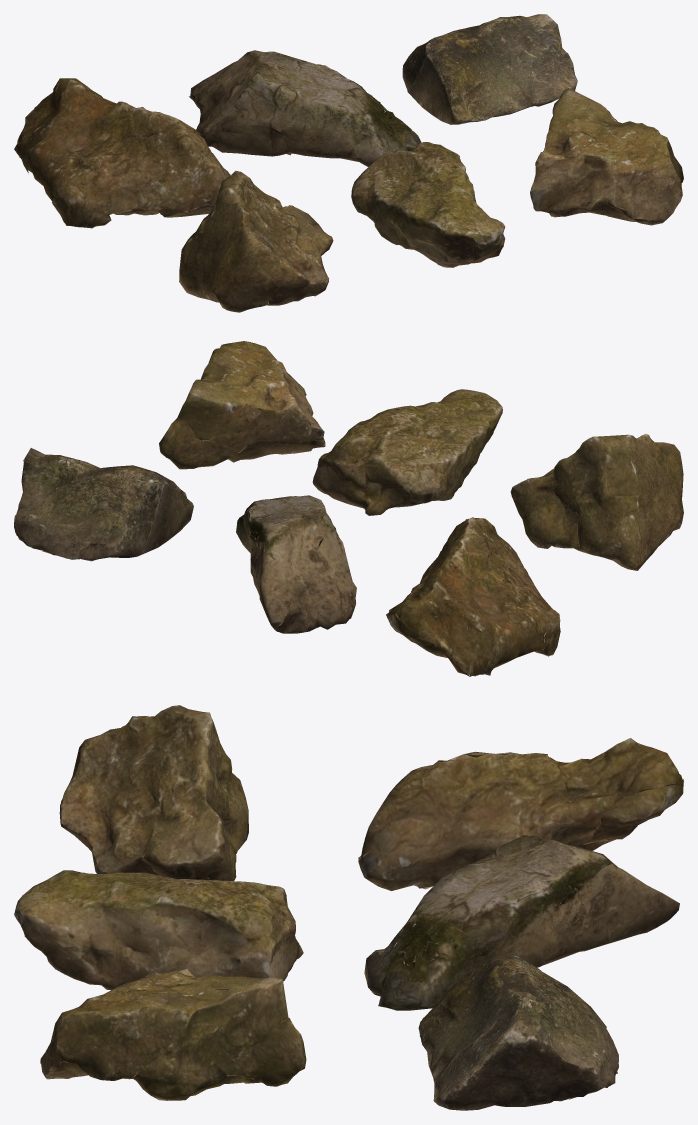
The model's file is rock_moss_set_01.glb.
3 renders of one model, top to bottom at view 1: azimuth 30°, elevation 25°; view 2: azimuth 150°, elevation 25°; view 3: azimuth 270°, elevation 25°, orthographic. The views are drawn at different scales.
Visible parts, largest first — view 1: rock_moss_set_01_rock01, rock_moss_set_01_rock02, rock_moss_set_01_rock06, rock_moss_set_01_rock04, rock_moss_set_01_rock03, rock_moss_set_01_rock05; view 2: rock_moss_set_01_rock04, rock_moss_set_01_rock01, rock_moss_set_01_rock05, rock_moss_set_01_rock03, rock_moss_set_01_rock06, rock_moss_set_01_rock02; view 3: rock_moss_set_01_rock01, rock_moss_set_01_rock02, rock_moss_set_01_rock05, rock_moss_set_01_rock04, rock_moss_set_01_rock06, rock_moss_set_01_rock03.
Boxes of the visible parts, left/top/right/bottom form: rock_moss_set_01_rock01: left=14, top=78, right=230, bottom=228; rock_moss_set_01_rock02: left=189, top=50, right=421, bottom=166; rock_moss_set_01_rock06: left=530, top=88, right=683, bottom=225; rock_moss_set_01_rock04: left=179, top=170, right=333, bottom=312; rock_moss_set_01_rock03: left=402, top=14, right=577, bottom=124; rock_moss_set_01_rock05: left=351, top=142, right=505, bottom=267; rock_moss_set_01_rock04: left=510, top=433, right=683, bottom=570; rock_moss_set_01_rock01: left=386, top=517, right=560, bottom=676; rock_moss_set_01_rock05: left=312, top=389, right=502, bottom=515; rock_moss_set_01_rock03: left=14, top=448, right=193, bottom=561; rock_moss_set_01_rock06: left=159, top=341, right=325, bottom=469; rock_moss_set_01_rock02: left=236, top=495, right=356, bottom=633; rock_moss_set_01_rock01: left=358, top=738, right=683, bottom=890; rock_moss_set_01_rock02: left=364, top=835, right=679, bottom=1010; rock_moss_set_01_rock05: left=14, top=870, right=303, bottom=990; rock_moss_set_01_rock04: left=59, top=705, right=248, bottom=880; rock_moss_set_01_rock06: left=40, top=969, right=306, bottom=1100; rock_moss_set_01_rock03: left=418, top=955, right=618, bottom=1110.
Bounding box in the file's own units: 8 × 1.77 × 6.95.
1 material, 1 textured.
